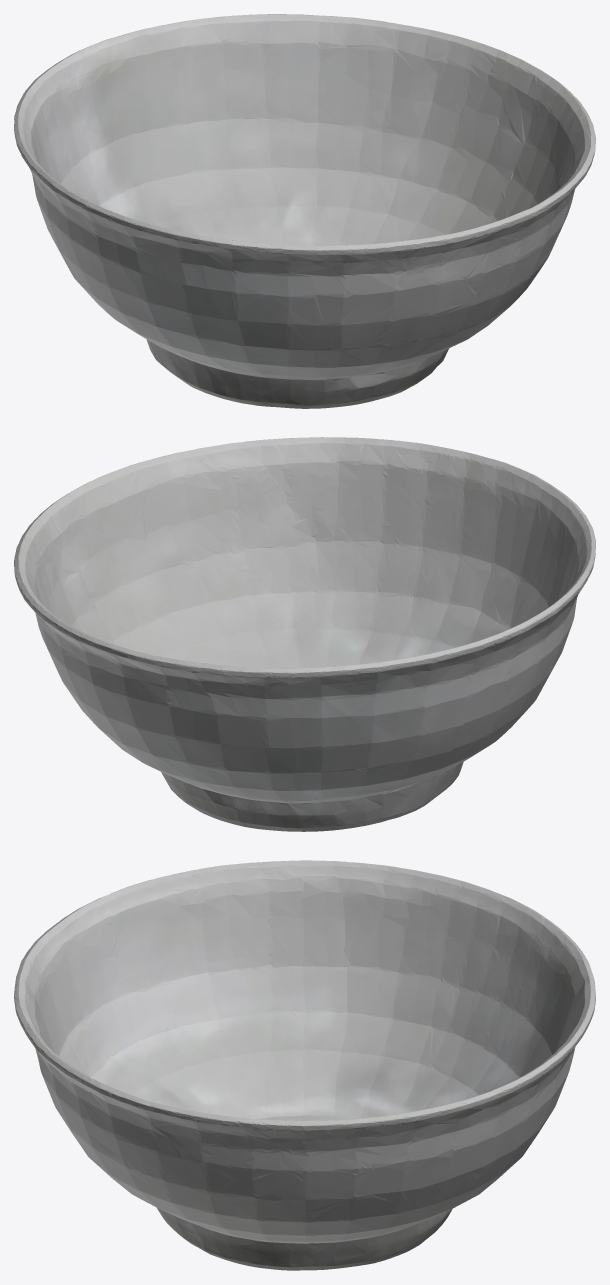
3 renders of one model, top to bottom at view 1: azimuth 30°, elevation 25°; view 2: azimuth 150°, elevation 25°; view 3: azimuth 270°, elevation 25°, orthographic.
Visible parts, largest first — view 1: world; view 2: world; view 3: world.
Boxes of the visible parts, x1,y1,x2,y2 form: world: [14, 14, 595, 408]; world: [14, 437, 595, 831]; world: [14, 860, 595, 1270].
Size of the model in its own units: 1 by 0.4436 by 0.9996.
1 material, 1 textured.
